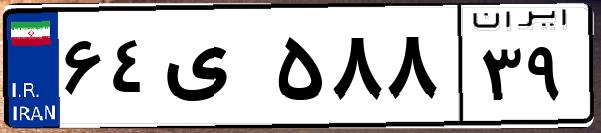3: (475, 38, 525, 113)
4: (110, 28, 158, 98)
5: (270, 28, 330, 110)
6: (57, 26, 110, 100)
8: (385, 28, 445, 110), (330, 28, 385, 110)
9: (525, 38, 570, 115)
ی: (158, 20, 270, 120)
